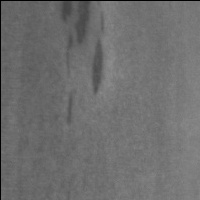inclusion: (60, 1, 107, 108), (88, 35, 109, 100), (61, 85, 82, 127)
